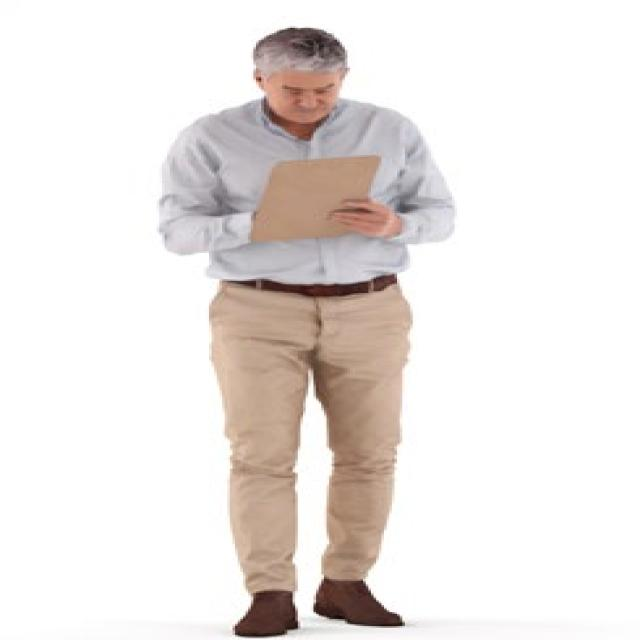standing: (150, 23, 468, 640)
